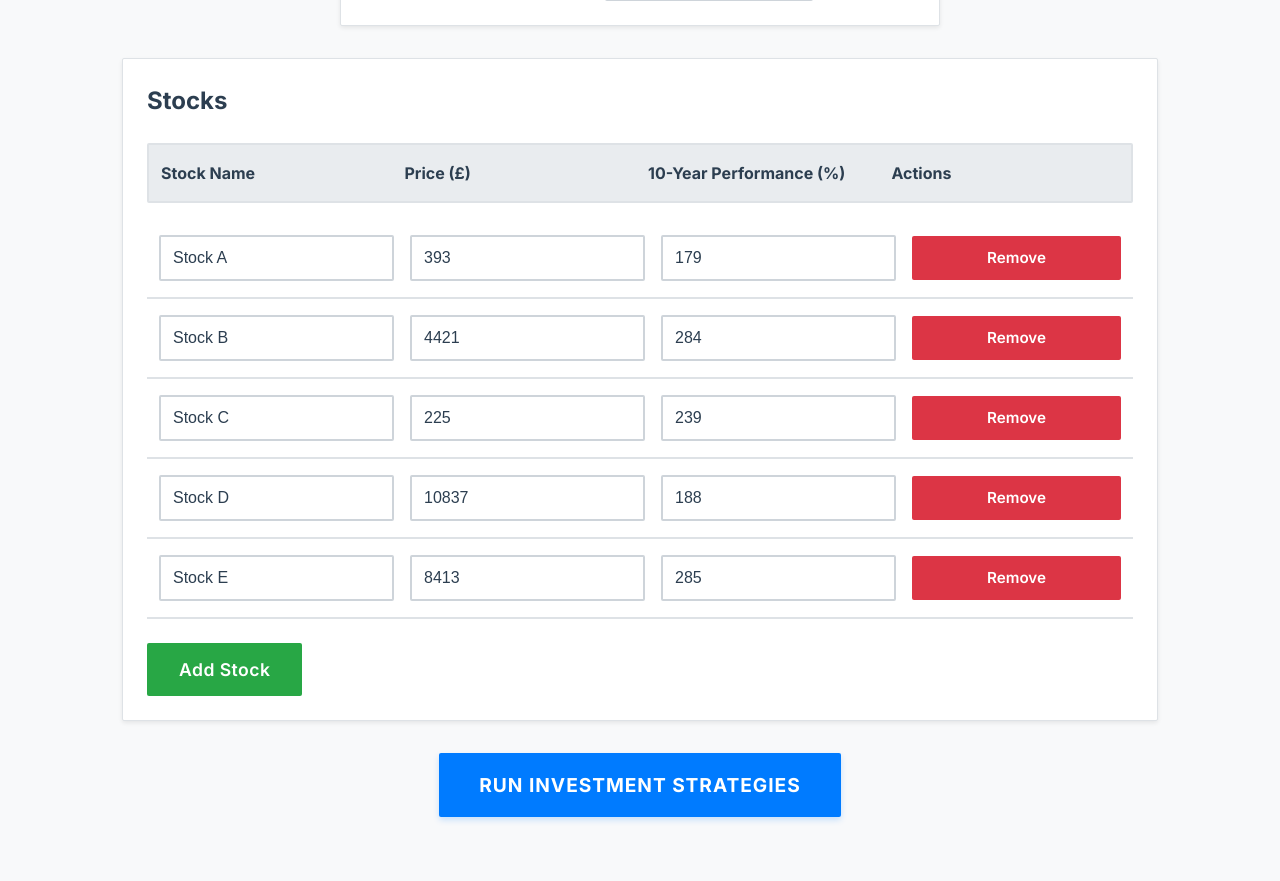
Scenario: PortfolioOptimizer › handles rapid consecutive button clicks
The width and height of the screenshot is (1280, 881).
(page scrolled)
Click multiple times rapidly
Click the button "Run Investment Strategies": {"x": 640, "y": 785} [439, 753, 841, 817]
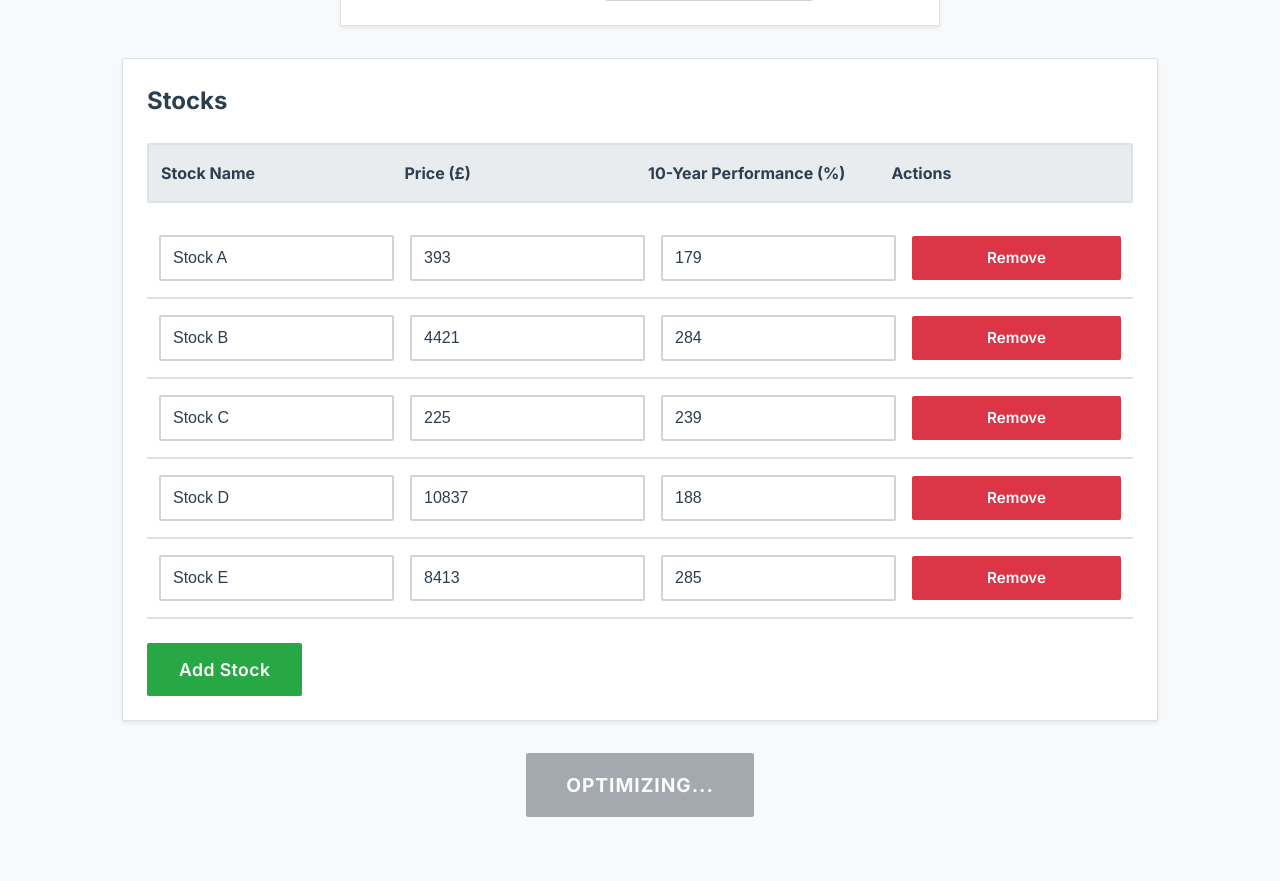
Click the button named "run investment strategies": {"x": 640, "y": 785} [526, 753, 754, 817]
(page scrolled)
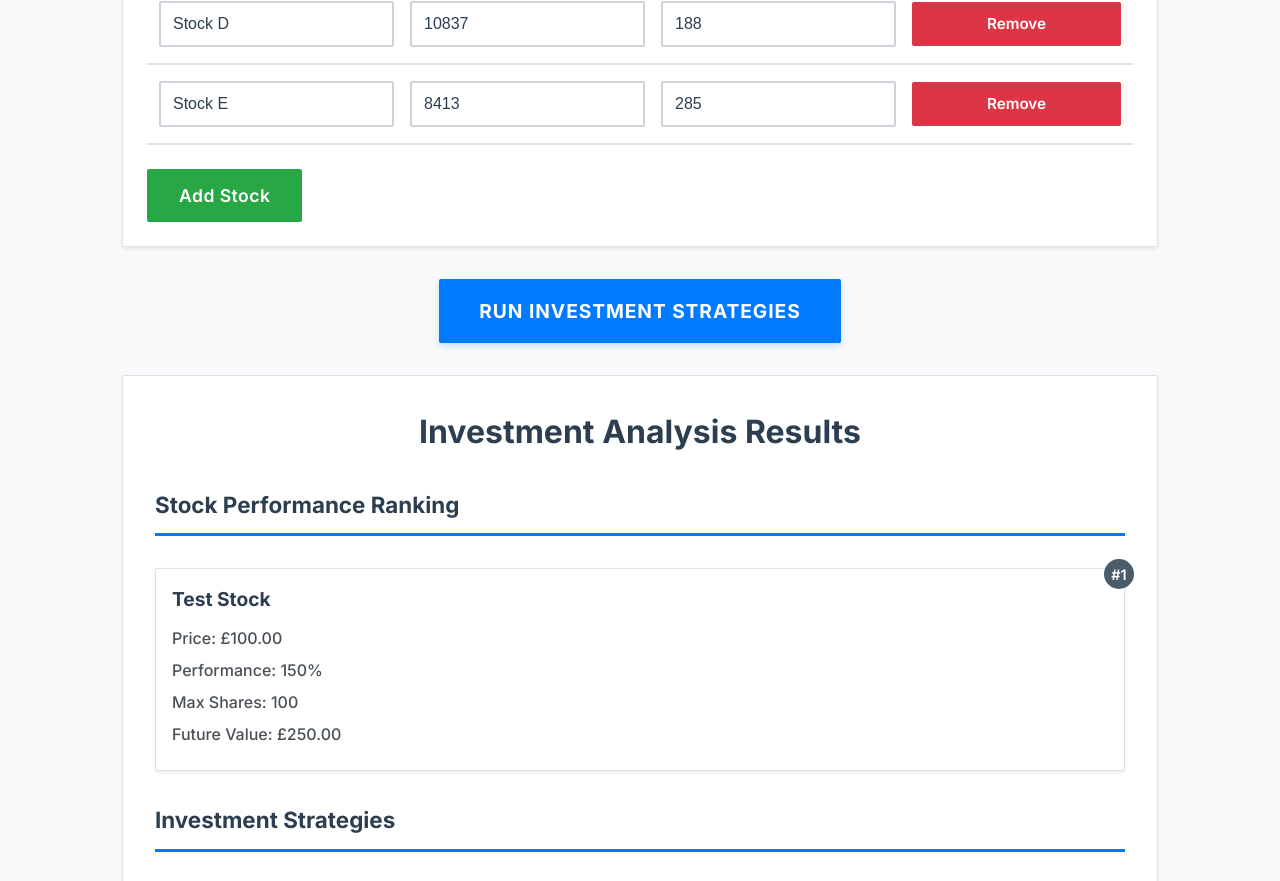
Expected: the heading "Investment Analysis Results" is shown, [419, 412, 861, 451]
